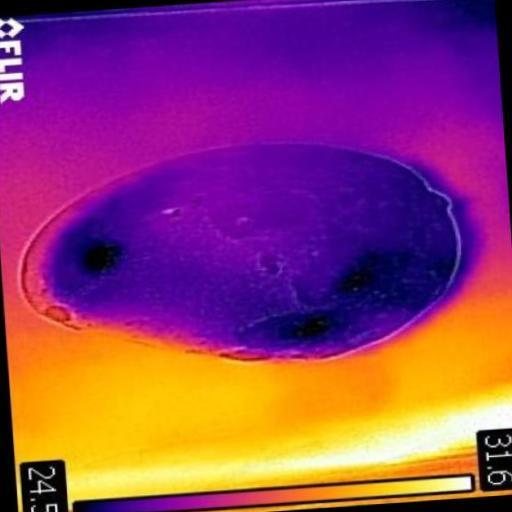alphanso: (20, 144, 461, 359)
